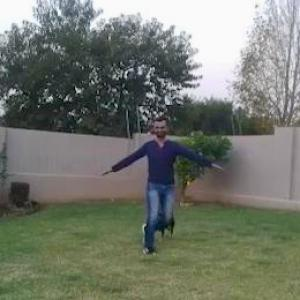land: (110, 125, 222, 254)
